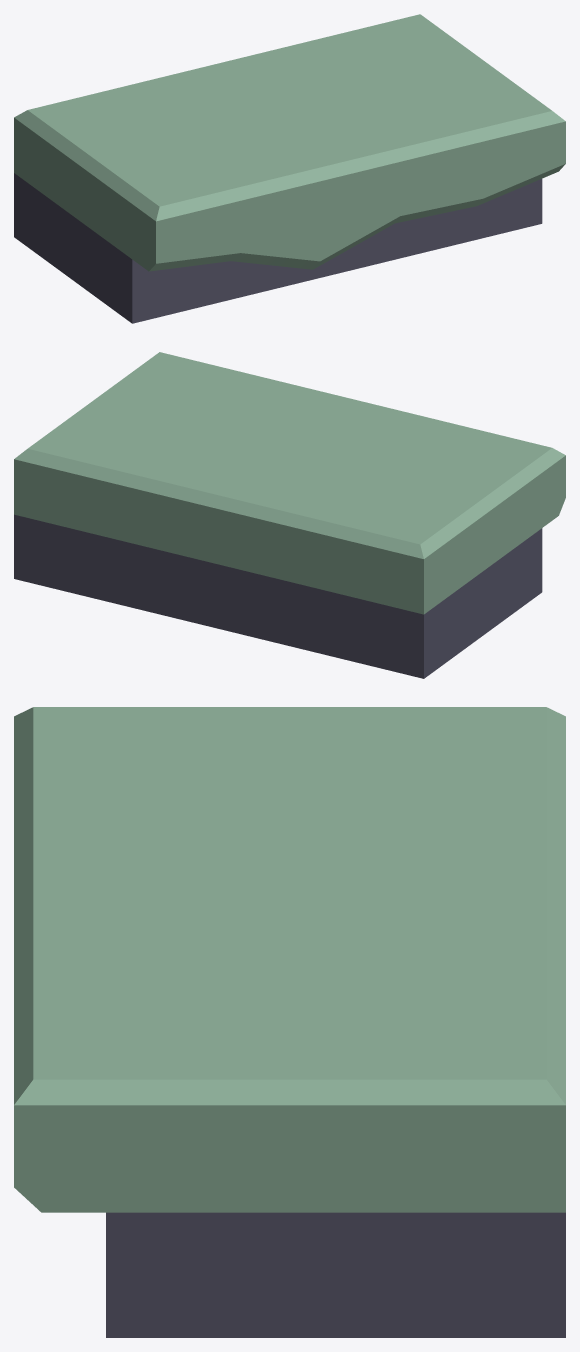
File: frontTile2.fbx
3 renders of one model, top to bottom at view 1: azimuth 30°, elevation 25°; view 2: azimuth 150°, elevation 25°; view 3: azimuth 270°, elevation 25°, orthographic. The views are drawn at different scales.
Parts seen in each view (by area): view 1: frontTile2; view 2: frontTile2; view 3: frontTile2.
Boxes of the visible parts, left/top/right/bottom form: frontTile2: left=14, top=14, right=565, bottom=323; frontTile2: left=14, top=352, right=565, bottom=678; frontTile2: left=14, top=707, right=565, bottom=1337.
Bounding box in the file's own units: 100 × 30 × 60.
